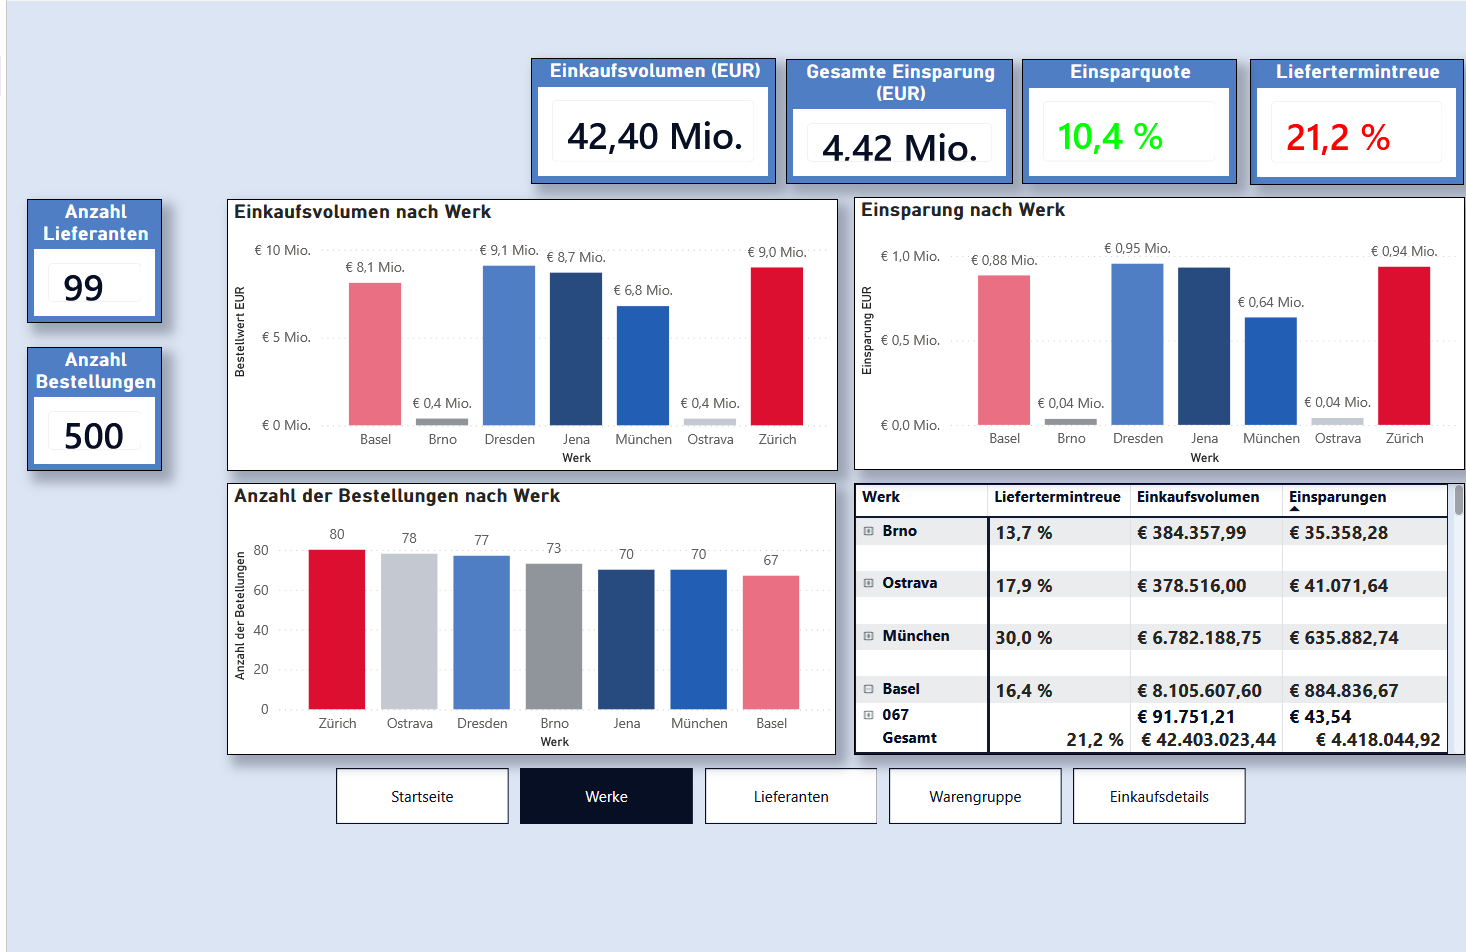

Layout of this report page (visuals, bound fields, positions):
{"tool":"powerbi","page":{"name":"Werke","canvas":[1280,720],"ordinal":1},"visuals":[{"type":"pageNavigator","box":[287.4,670.5,799.9,49.8],"z":0},{"type":"pivotTable","fields":{"Rows":["Einkaufsdaten.Werk","Einkaufsdaten.Lieferant","Einkaufsdaten.Bestellnummer"],"Values":["Einkaufsdaten.Liefertermintreue","Sum(Einkaufsdaten.Bestellwert Euro)","Sum(Einkaufsdaten.Einsparung EUR)"]},"box":[739.6,421.3,533.8,237.4],"z":1000},{"type":"cardVisual","title":"Liefertermintreue","fields":{"Data":["Einkaufsdaten.Liefertermintreue"]},"box":[1086.4,50.6,186.7,109.9],"z":3000},{"type":"cardVisual","title":"Einkaufsvolumen (EUR)","fields":{"Data":["Einkaufsdaten.Gesamt Einkaufsvolumen EUR"]},"box":[458.1,49.6,214,109.9],"z":4000},{"type":"cardVisual","title":"Gesamte Einsparung (EUR)","fields":{"Data":["Einkaufsdaten.Gesamte Einsparung"]},"box":[680.9,50.6,198.4,108.9],"z":5000},{"type":"cardVisual","title":"Einsparquote","fields":{"Data":["Einkaufsdaten.Einsparquote"]},"box":[887.1,50.6,187.7,108.9],"z":6000},{"type":"cardVisual","title":"Anzahl Bestellungen","fields":{"Data":["Einkaufsdaten.Anzahl Bestellungen"]},"box":[17.8,301.9,118,108.4],"z":7000},{"type":"cardVisual","title":"Anzahl Lieferanten","fields":{"Data":["Einkaufsdaten.Anzahl Lieferanten"]},"box":[17.8,172.9,118,108.4],"z":8000},{"type":"columnChart","title":"Einkaufsvolumen nach Werk","fields":{"Category":["Einkaufsdaten.Werk","Einkaufsdaten.Lieferant","Einkaufsdaten.Bestellnummer"],"Y":["Sum(Einkaufsdaten.Bestellwert Euro)"]},"box":[192.1,172.9,533.8,237.4],"z":9000},{"type":"columnChart","title":"Einsparung nach Werk","fields":{"Category":["Einkaufsdaten.Werk","Einkaufsdaten.Lieferant","Einkaufsdaten.Bestellnummer"],"Y":["Sum(Einkaufsdaten.Einsparung EUR)"]},"box":[739.6,171.5,533.8,238.8],"z":10000},{"type":"columnChart","title":"Anzahl der Bestellungen nach Werk","fields":{"Category":["Einkaufsdaten.Werk"],"Y":["CountNonNull(Einkaufsdaten.Bestellnummer)"]},"box":[192.1,421.3,532.4,237.4],"z":11000}]}

Visuals, with their boxes on the page's 1280x720 design canvas (x1, y1, x2, y2). These are canvas units, not pixel positions in the 1466x952 screenshot, which may show the page scaled, cropped or inside an application window:
pageNavigator: (287, 670, 1087, 720)
pivotTable - Einkaufsdaten.Werk x Einkaufsdaten.Lieferant: (740, 421, 1273, 659)
"Liefertermintreue" cardVisual: (1086, 51, 1273, 160)
"Einkaufsvolumen (EUR)" cardVisual: (458, 50, 672, 160)
"Gesamte Einsparung (EUR)" cardVisual: (681, 51, 879, 160)
"Einsparquote" cardVisual: (887, 51, 1075, 160)
"Anzahl Bestellungen" cardVisual: (18, 302, 136, 410)
"Anzahl Lieferanten" cardVisual: (18, 173, 136, 281)
"Einkaufsvolumen nach Werk" columnChart: (192, 173, 726, 410)
"Einsparung nach Werk" columnChart: (740, 172, 1273, 410)
"Anzahl der Bestellungen nach Werk" columnChart: (192, 421, 724, 659)
